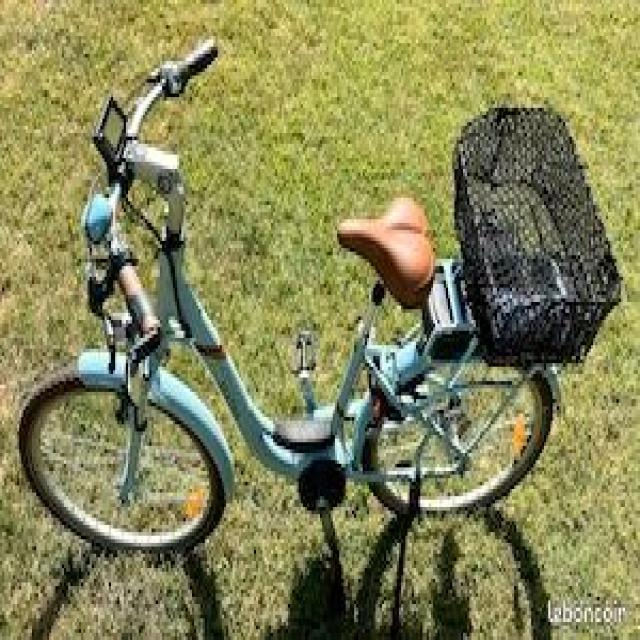Bike: (21, 39, 619, 546)
